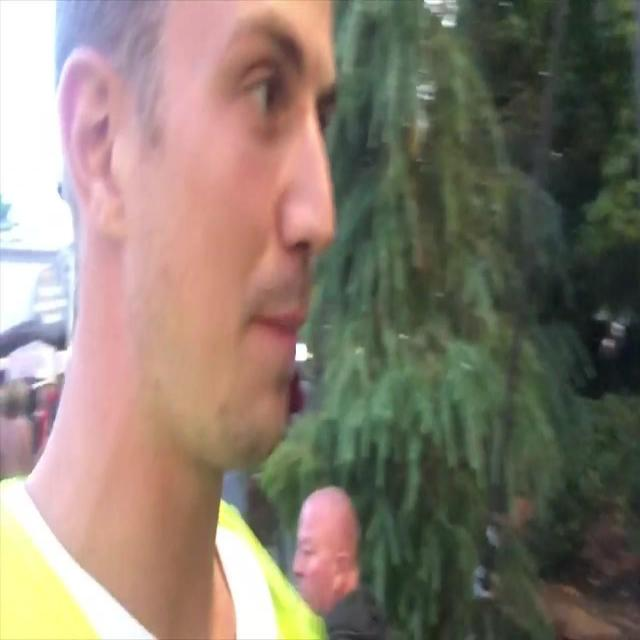vest: (0, 470, 329, 639)
